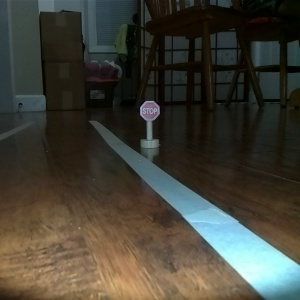stop sign: (136, 99, 162, 151)
